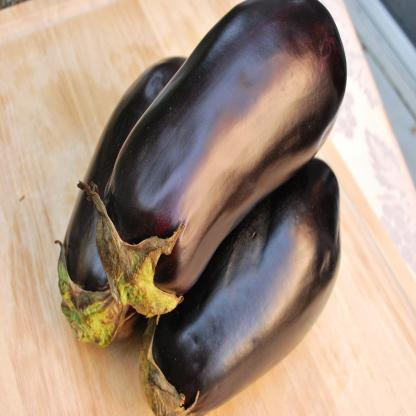--: (92, 0, 367, 330), (137, 151, 359, 416)
